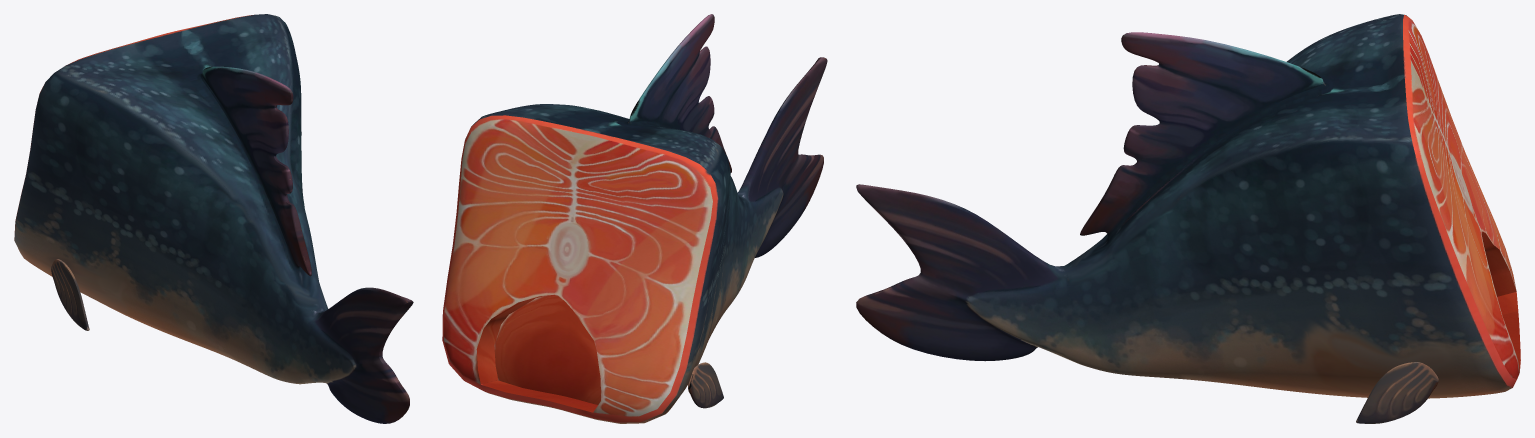
The model's file is FISH .fbx.
3 views of the same model, side by side, from view 1: azimuth 30°, elevation 25°; view 2: azimuth 150°, elevation 25°; view 3: azimuth 270°, elevation 25° (orthographic). The views are drawn at different scales.
Parts seen in each view (by area): view 1: Cube.001; view 2: Cube.001; view 3: Cube.001.
Boxes of the visible parts, x1,y1,x2,y2 form: Cube.001: [14, 14, 413, 423]; Cube.001: [442, 14, 827, 423]; Cube.001: [856, 14, 1520, 423].
Size of the model in its own units: 217 by 240 by 426.
